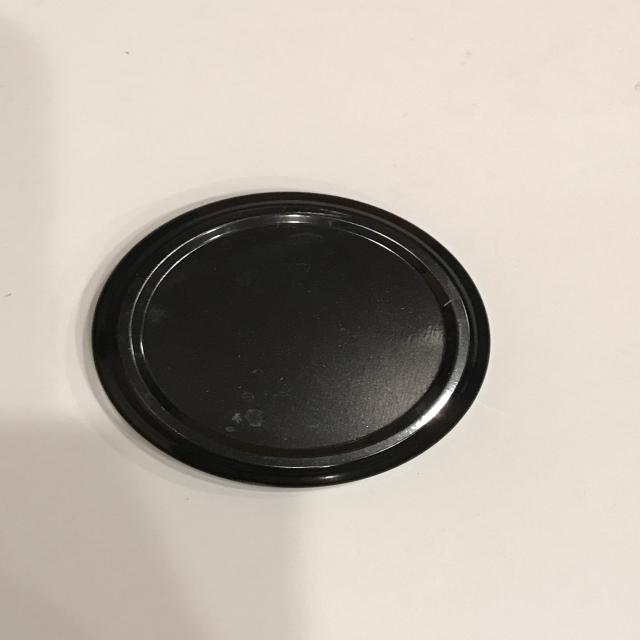metal: (90, 190, 493, 490)
